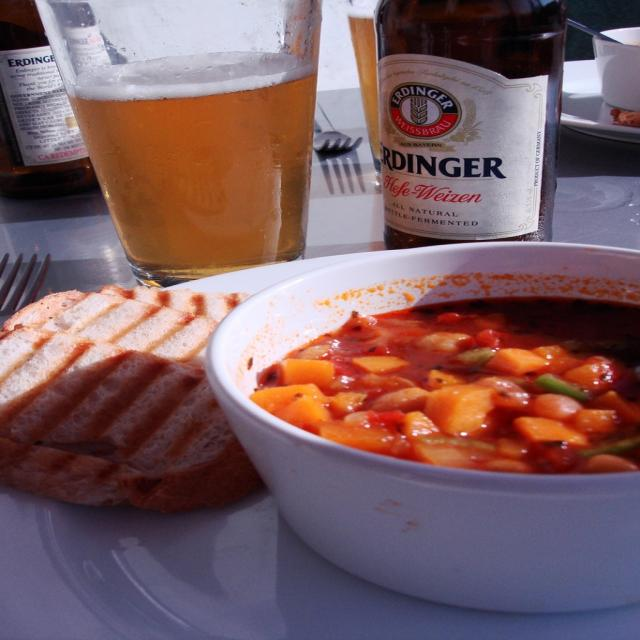erdinger: (375, 67, 510, 185)
